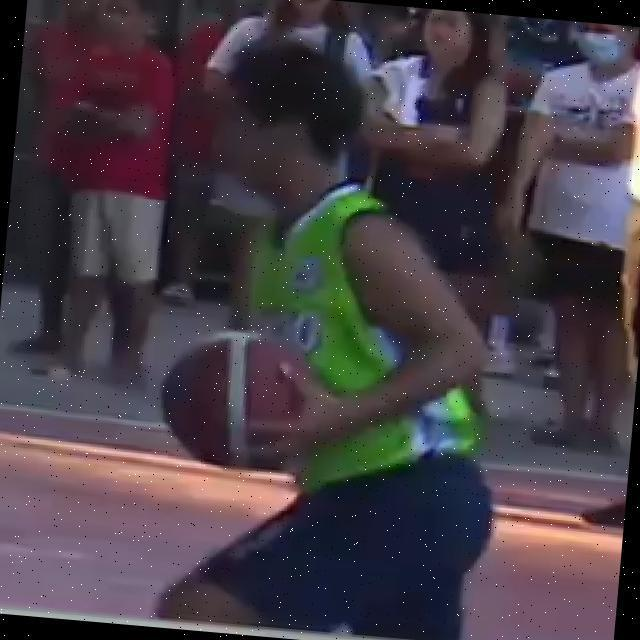ball: (136, 308, 342, 492)
